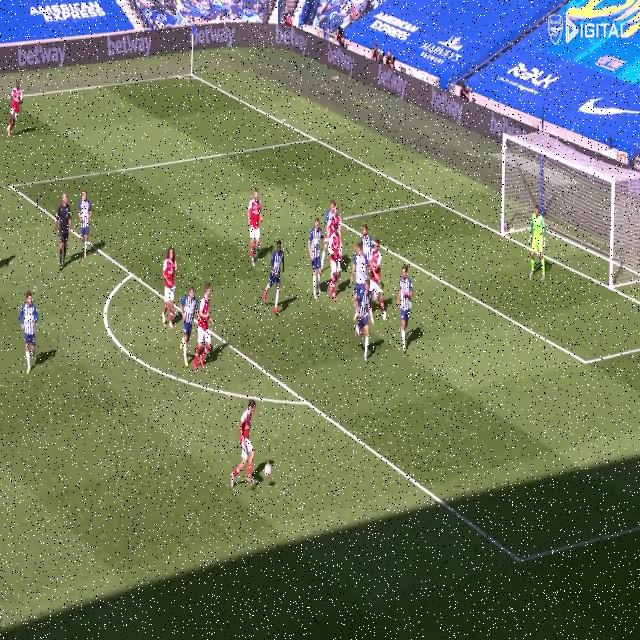Ball: (263, 463, 273, 478)
GoalKeeper: (532, 208, 552, 278)
TEAM 1: (231, 393, 255, 490), (195, 280, 212, 364), (372, 239, 388, 327), (161, 245, 178, 324), (247, 188, 262, 264), (330, 206, 342, 300), (9, 76, 26, 137)
TEAM 2: (15, 290, 48, 378), (353, 274, 376, 362), (264, 232, 284, 323), (399, 264, 419, 352), (306, 215, 323, 302), (177, 282, 193, 369), (78, 188, 93, 260), (353, 249, 370, 305), (359, 217, 372, 268)
